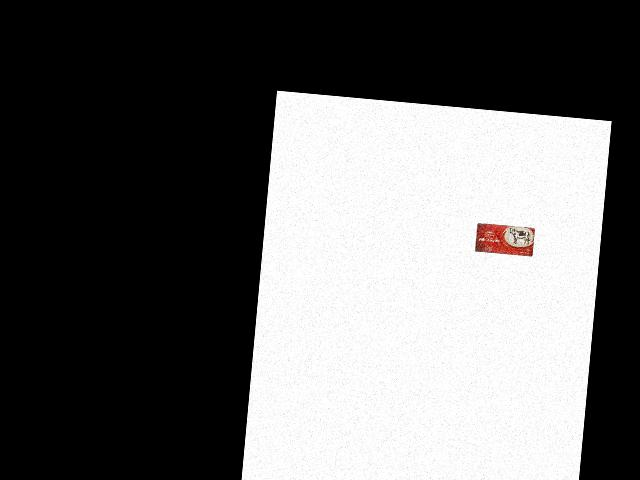chocolate: (473, 222, 534, 258)
